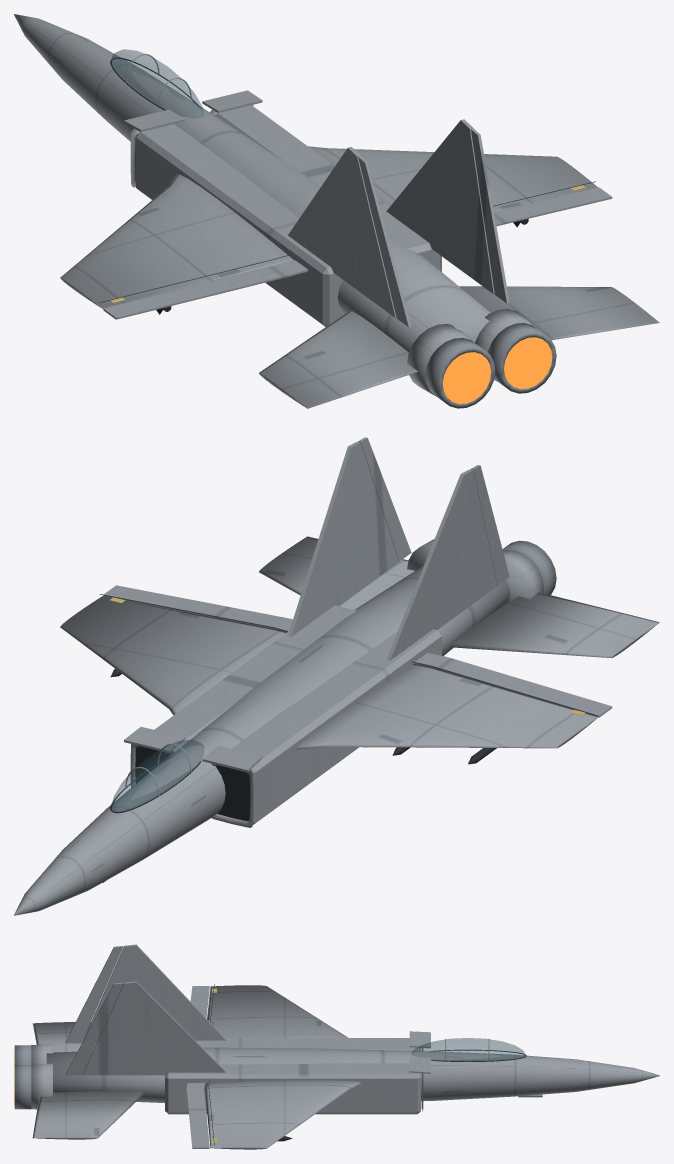
Rendered from wings_mig31.glb.
3 renders of one model, top to bottom at view 1: azimuth 30°, elevation 25°; view 2: azimuth 150°, elevation 25°; view 3: azimuth 270°, elevation 25°, orthographic. The views are drawn at different scales.
Visible parts, largest first — view 1: airframe_static, tailplane_L, tailplane_R, canopy, elevon_L, rudder_2, afterburner_L, afterburner_R, rudder_1, elevon_R; view 2: airframe_static, tailplane_L, canopy, tailplane_R, elevon_L, elevon_R, rudder_2, rudder_1; view 3: airframe_static, tailplane_R, canopy, rudder_1, rudder_2, elevon_R, tailplane_L, elevon_L.
Part boxes in pixels (bbox=[...]): airframe_static: bbox=[14, 14, 597, 408]; tailplane_L: bbox=[259, 311, 418, 408]; tailplane_R: bbox=[459, 286, 659, 340]; canopy: bbox=[110, 49, 203, 118]; elevon_L: bbox=[103, 260, 308, 319]; rudder_2: bbox=[471, 128, 509, 303]; afterburner_L: bbox=[442, 352, 491, 403]; afterburner_R: bbox=[504, 337, 552, 388]; rudder_1: bbox=[358, 156, 411, 327]; elevon_R: bbox=[494, 187, 612, 226]; airframe_static: bbox=[14, 441, 598, 915]; tailplane_L: bbox=[450, 592, 659, 657]; canopy: bbox=[110, 739, 204, 813]; tailplane_R: bbox=[259, 536, 414, 609]; elevon_L: bbox=[414, 653, 612, 717]; elevon_R: bbox=[103, 585, 292, 632]; rudder_2: bbox=[358, 437, 411, 561]; rudder_1: bbox=[471, 465, 509, 585]; airframe_static: bbox=[14, 944, 659, 1149]; tailplane_R: bbox=[32, 1091, 144, 1139]; canopy: bbox=[411, 1038, 526, 1061]; rudder_1: bbox=[65, 946, 123, 1043]; rudder_2: bbox=[65, 982, 123, 1075]; elevon_R: bbox=[186, 1083, 209, 1148]; tailplane_L: bbox=[32, 1022, 96, 1052]; elevon_L: bbox=[190, 986, 209, 1017].
Bounding box in the file's own units: 13.46 × 5.28 × 22.7.
7 materials, 1 textured.
